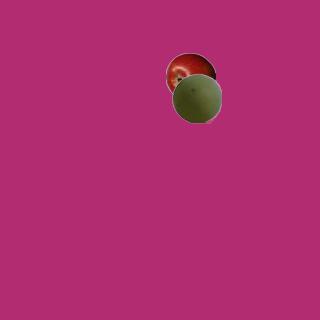Apple Braeburn: (165, 52, 215, 102)
Grape White 4: (171, 73, 221, 123)
